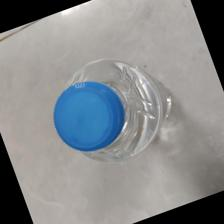Lavie: (52, 53, 179, 167)
